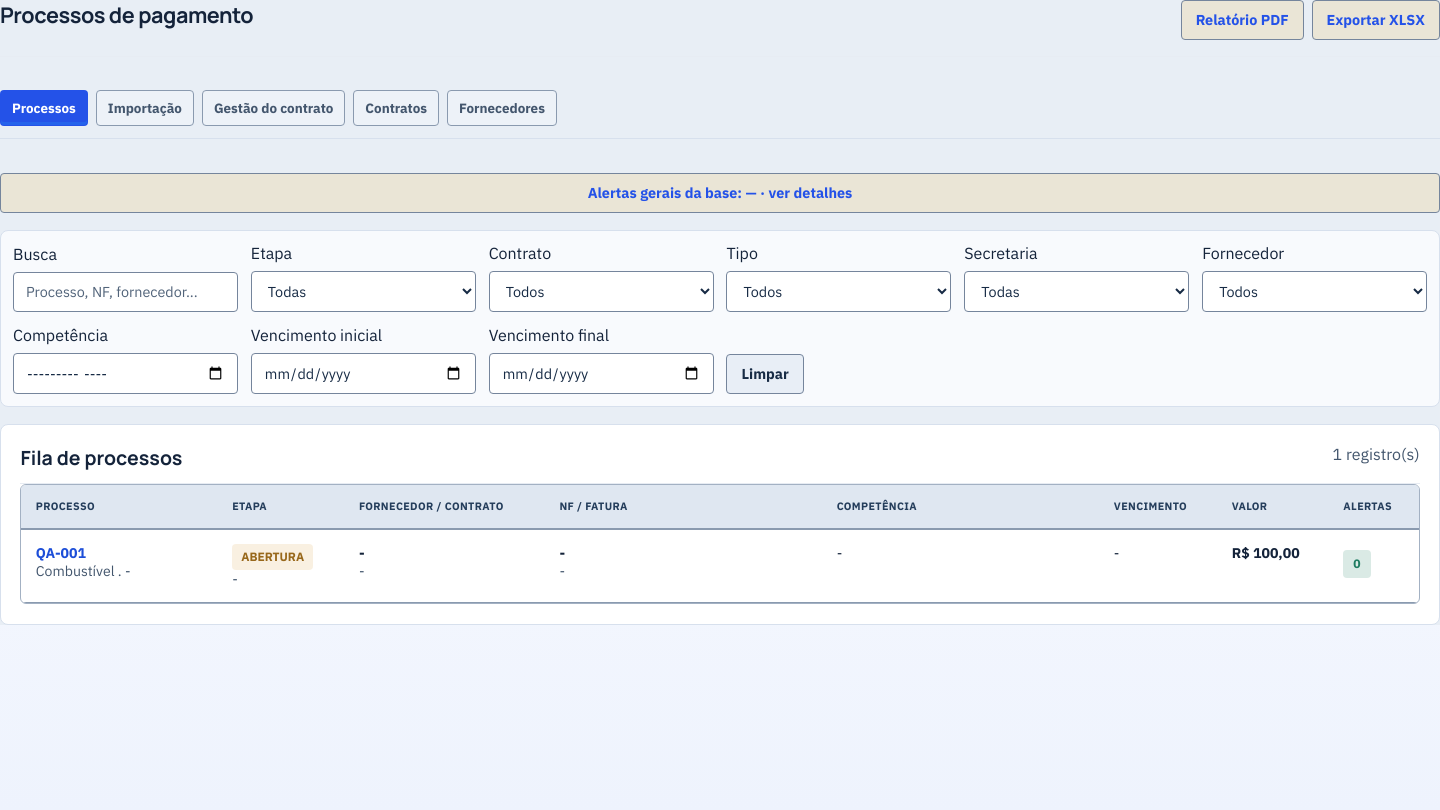
Test: preserva a permissão de excluir independente da permissão de editar
Click the button "QA-001" at coordinates (61, 553), box [36,544,86,562]
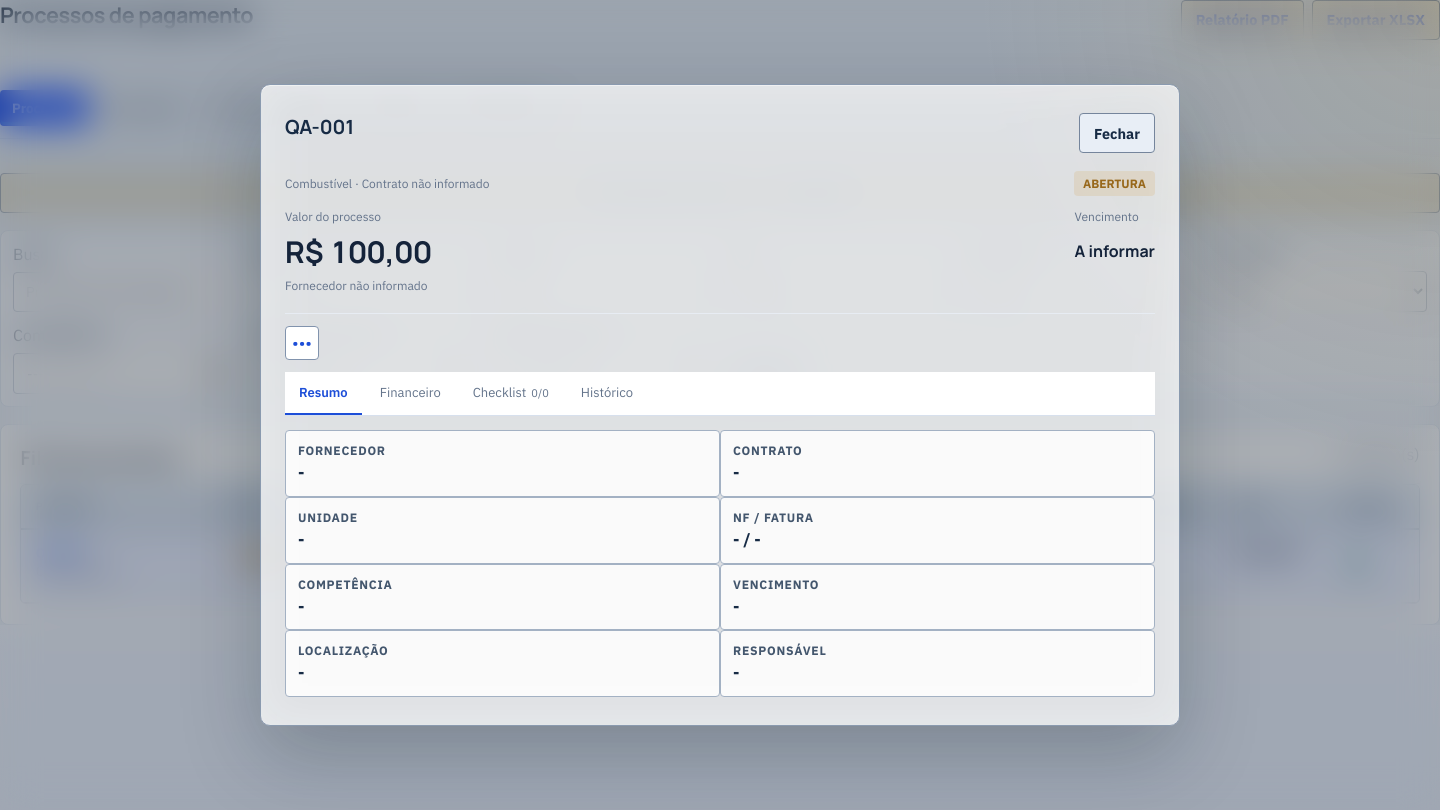
Click the button named "Mais ações do processo" at coordinates (302, 343), box [285,326,319,360]
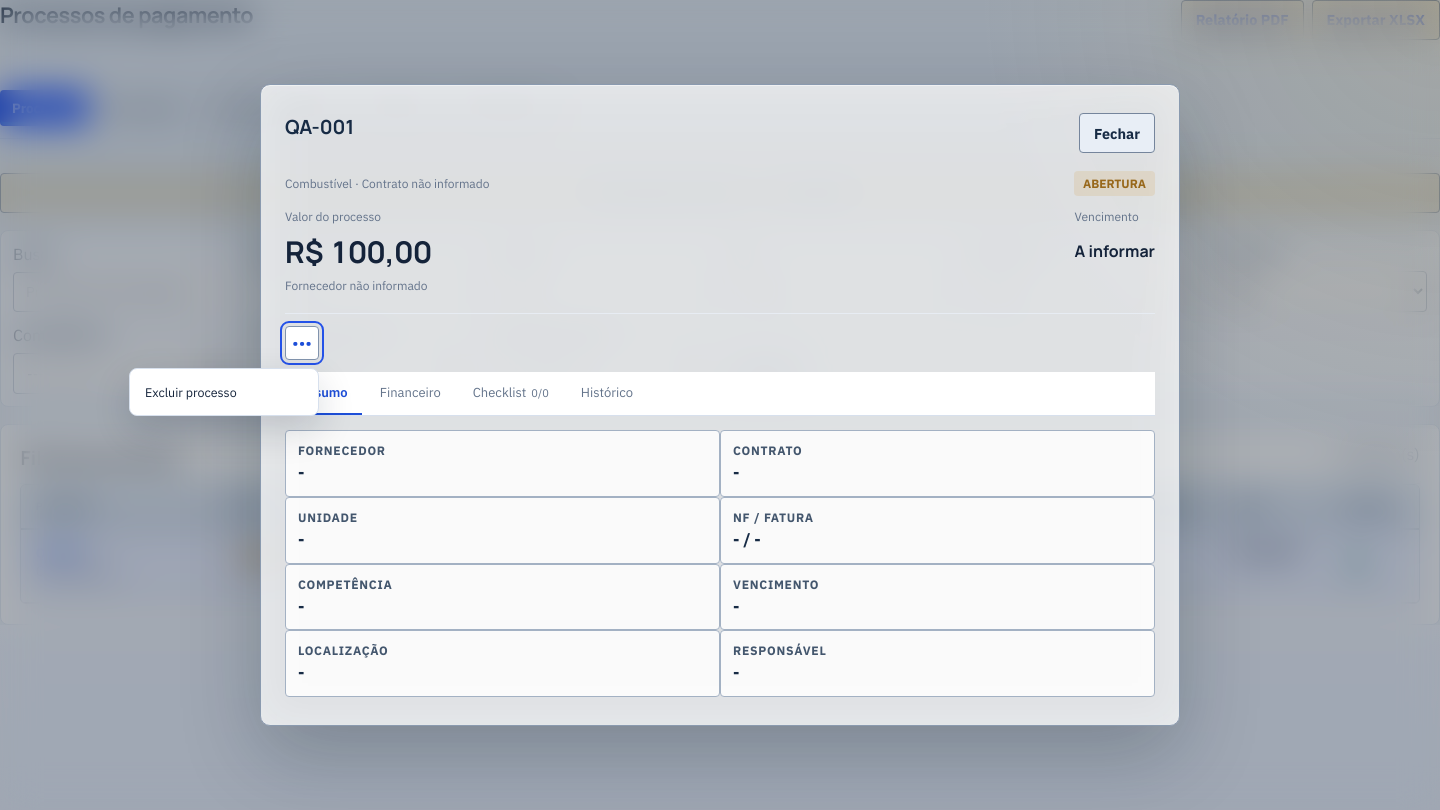
Check: the menu item "Excluir processo" is enabled, box [136,375,312,409]
